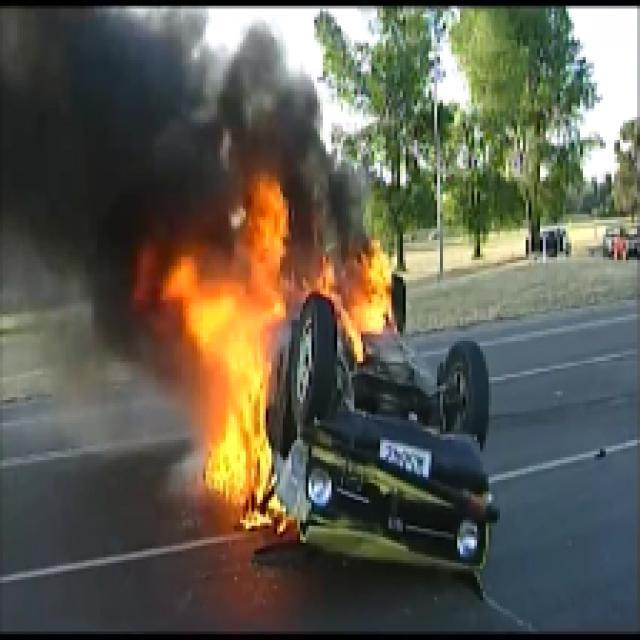Fire: (166, 175, 291, 540), (319, 242, 392, 358)
Smoke: (3, 3, 243, 266)
